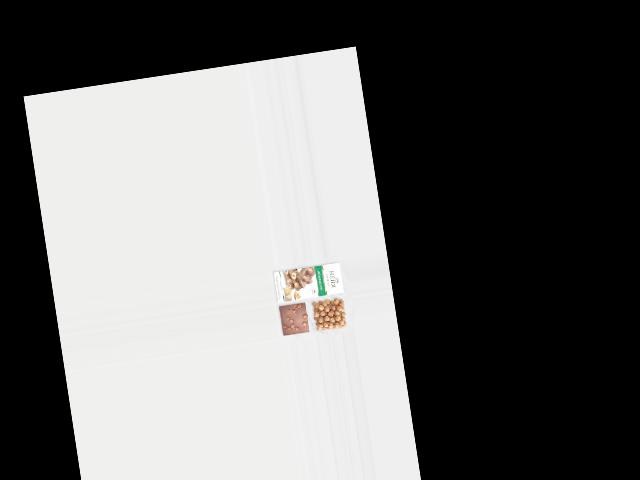chocolate: (277, 300, 310, 339)
